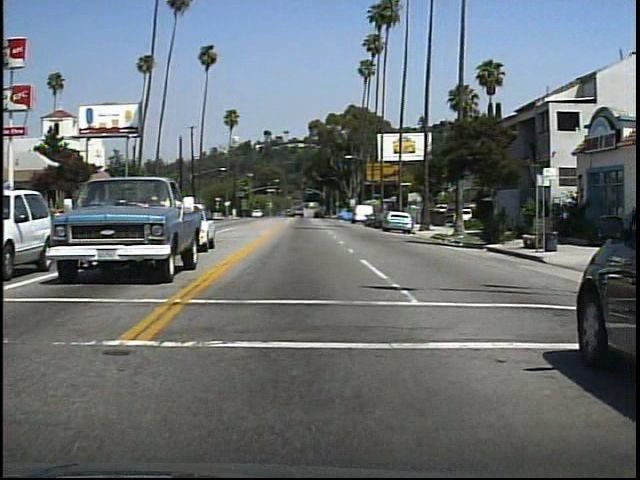person: (497, 199, 520, 248)
